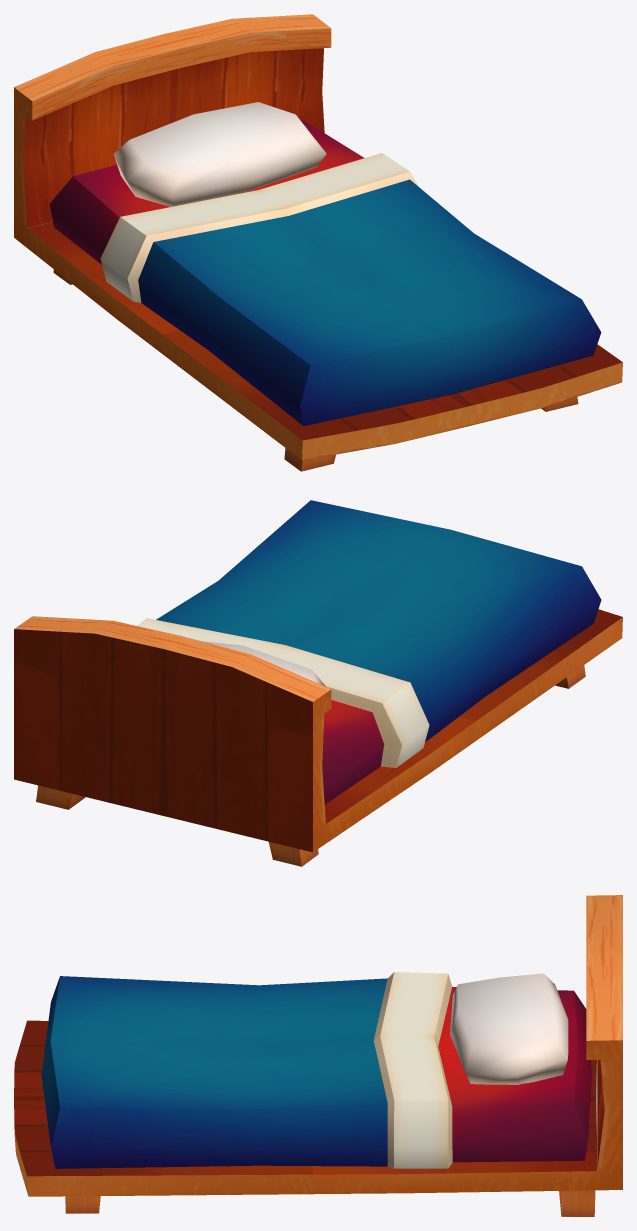
Rendered from bedGenericLv1.fbx.
3 views of the same model, one above another, from view 1: azimuth 30°, elevation 25°; view 2: azimuth 150°, elevation 25°; view 3: azimuth 270°, elevation 25° (orthographic).
Parts seen in each view (by area): view 1: pCube198, pCube125, pCube197; view 2: pCube125, pCube198, pCube197, pCube129, pCube130; view 3: pCube198, pCube125, pCube197, pCube130, pCube126.
Part boxes in pixels (<box>): pCube198: <box>49,120,601,426</box>; pCube125: <box>14,14,622,460</box>; pCube197: <box>113,102,326,206</box>; pCube125: <box>14,609,622,852</box>; pCube198: <box>137,500,601,804</box>; pCube197: <box>201,641,325,686</box>; pCube129: <box>268,842,318,866</box>; pCube130: <box>36,785,85,809</box>; pCube198: <box>41,972,591,1168</box>; pCube125: <box>14,895,622,1196</box>; pCube197: <box>450,973,568,1084</box>; pCube130: <box>559,1190,595,1216</box>; pCube126: <box>65,1196,100,1213</box>.
Size of the model in its own units: 5.14 by 3.04 by 8.51.
